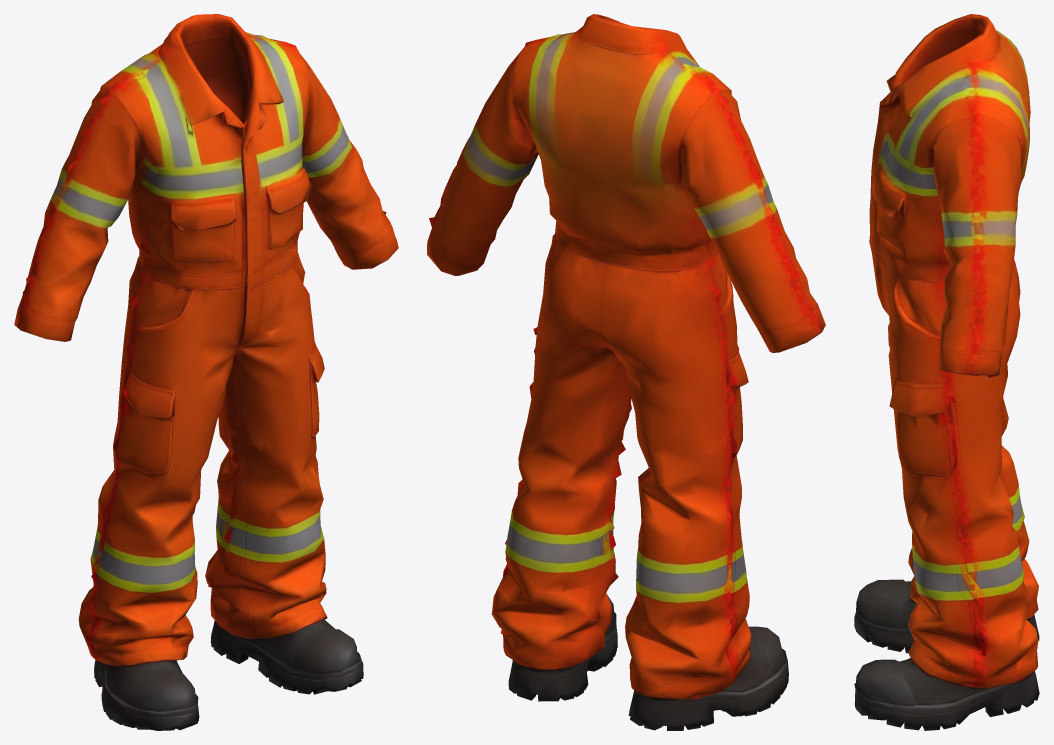
The model's file is roupa de minerador.glb.
3 renders of one model, left to right at view 1: azimuth 30°, elevation 25°; view 2: azimuth 150°, elevation 25°; view 3: azimuth 270°, elevation 25°, orthographic. The views are drawn at different scales.
Visible parts, largest first — view 1: tripo_node_b8b9ace7-536d-4ce1-8cb7-e366da1eee71; view 2: tripo_node_b8b9ace7-536d-4ce1-8cb7-e366da1eee71; view 3: tripo_node_b8b9ace7-536d-4ce1-8cb7-e366da1eee71.
Boxes of the visible parts, x1,y1,x2,y2 form: tripo_node_b8b9ace7-536d-4ce1-8cb7-e366da1eee71: [14, 14, 398, 730]; tripo_node_b8b9ace7-536d-4ce1-8cb7-e366da1eee71: [427, 14, 825, 730]; tripo_node_b8b9ace7-536d-4ce1-8cb7-e366da1eee71: [854, 14, 1039, 730].
Bounding box in the file's own units: 0.6005 × 1 × 0.2571.
1 material, 1 textured.
